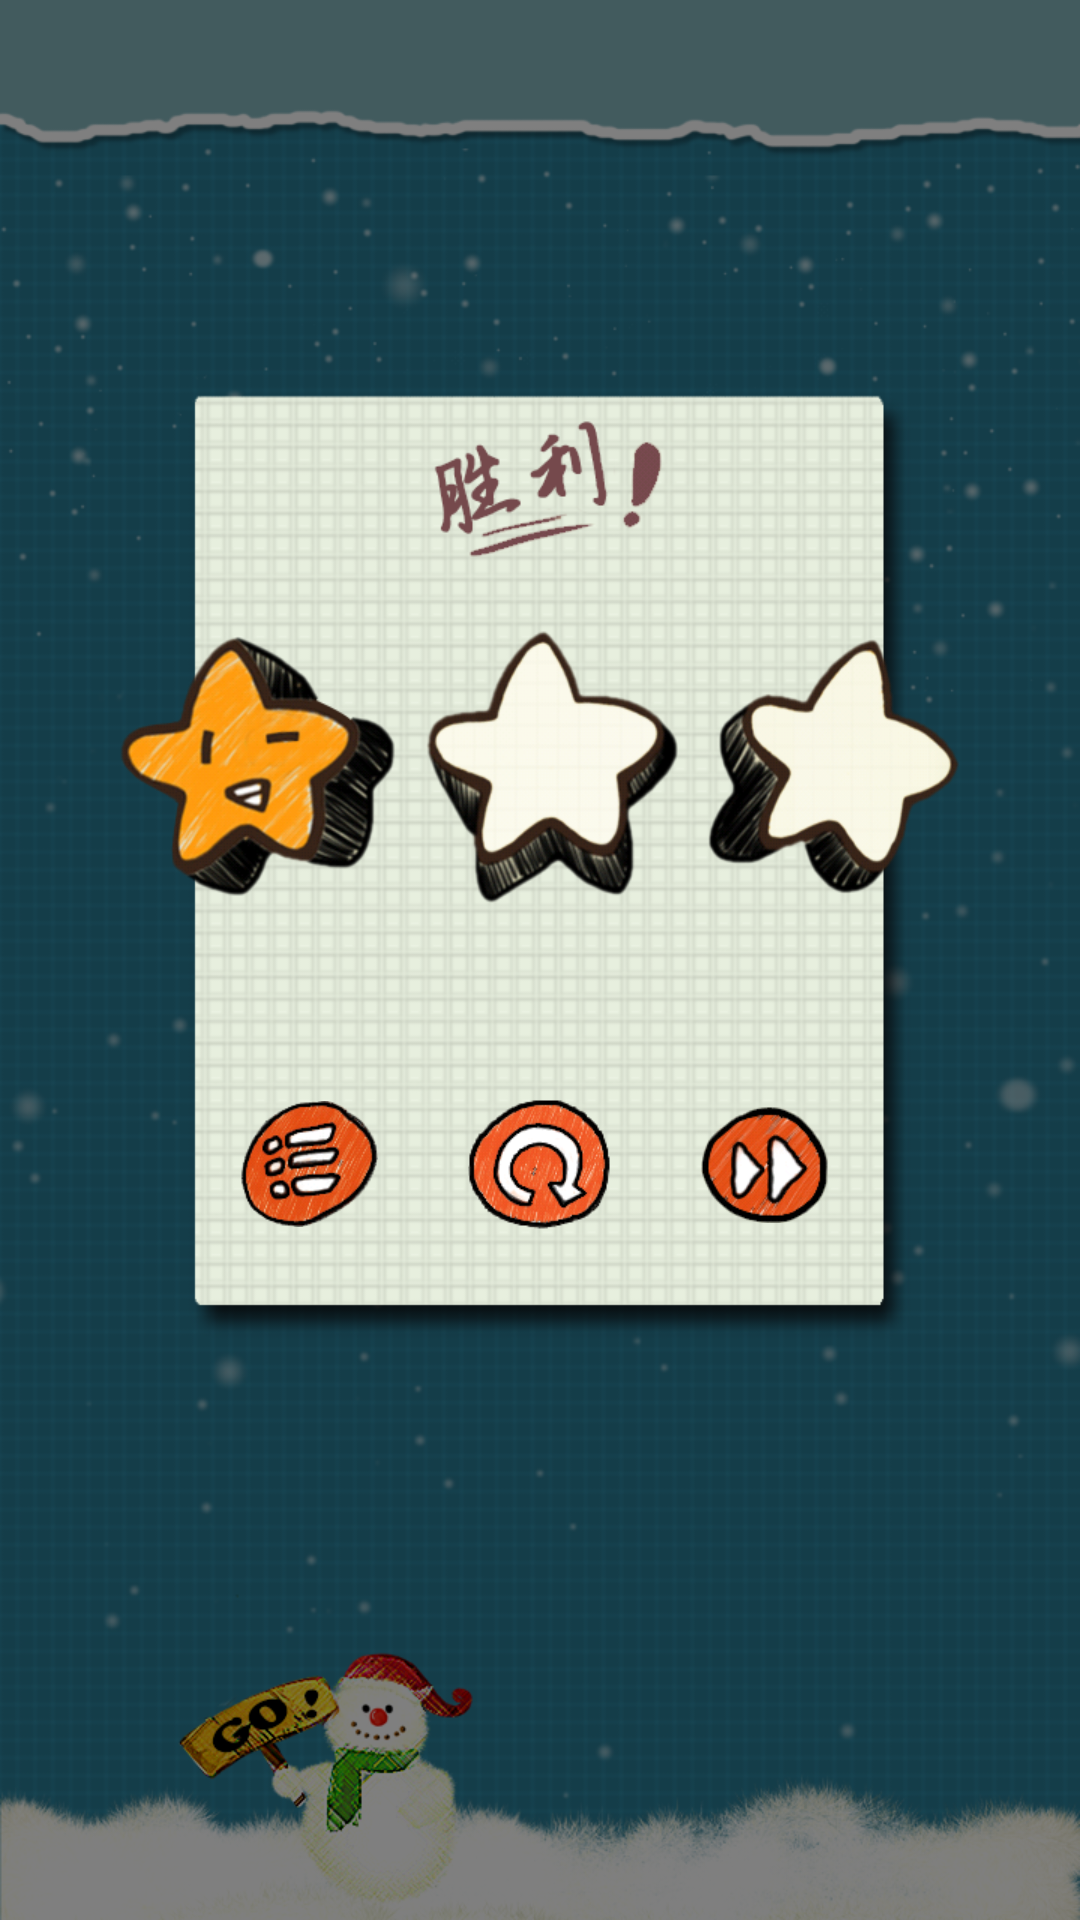

Icon click points for this 1080 × 1920 phone screenshot, format [x,y]:
star none three: [834,766]
star none two: [552,766]
star one: [258,766]
